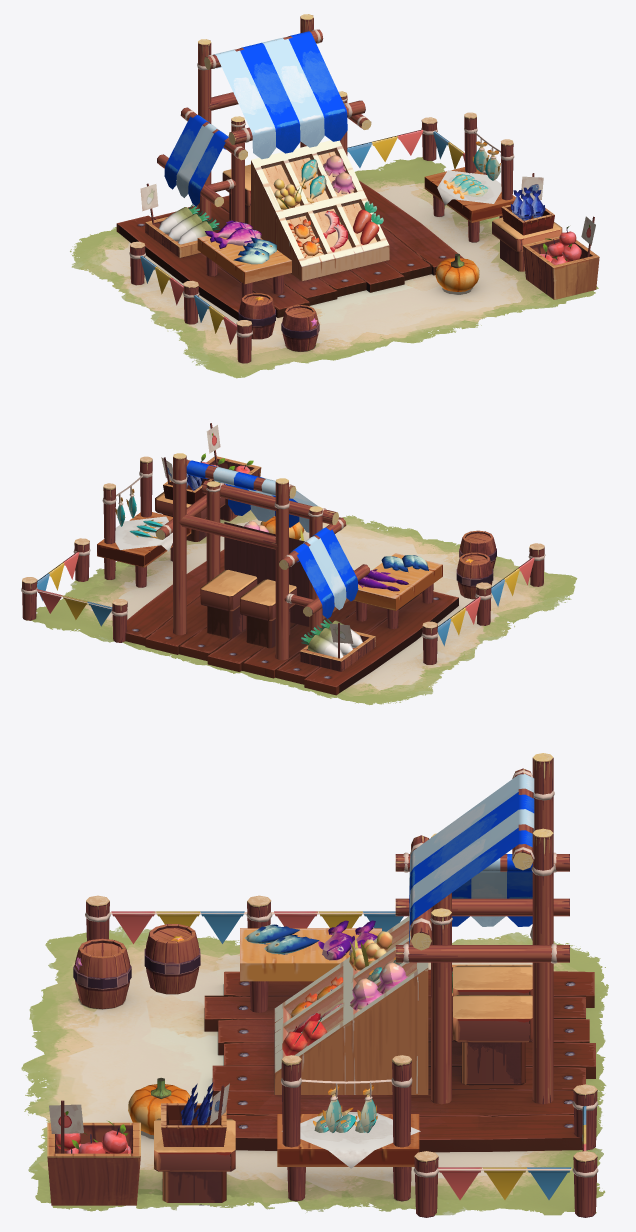
File: Market1_msh.fbx
3 views of the same model, one above another, from view 1: azimuth 30°, elevation 25°; view 2: azimuth 150°, elevation 25°; view 3: azimuth 270°, elevation 25° (orthographic). The views are drawn at different scales.
Parts seen in each view (by area): view 1: wood_msh, assets_msh, ground_msh, woodFloor_msh; view 2: wood_msh, ground_msh, woodFloor_msh, assets_msh; view 3: wood_msh, ground_msh, assets_msh, woodFloor_msh.
Part boxes in pixels (x1,y1,x2,y2): wood_msh: (129, 14, 599, 363); assets_msh: (140, 31, 595, 344); ground_msh: (70, 157, 598, 378); woodFloor_msh: (116, 180, 463, 320); wood_msh: (21, 423, 545, 671); ground_msh: (26, 510, 577, 705); woodFloor_msh: (125, 549, 458, 695); assets_msh: (36, 425, 534, 658); wood_msh: (47, 753, 598, 1217); ground_msh: (21, 926, 608, 1215); assets_msh: (49, 774, 586, 1199); woodFloor_msh: (204, 969, 595, 1152).
Size of the model in its own units: 15.97 by 6.91 by 13.53.
4 materials, 4 textured.
